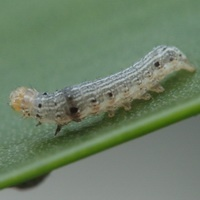insect: (9, 46, 194, 135)
